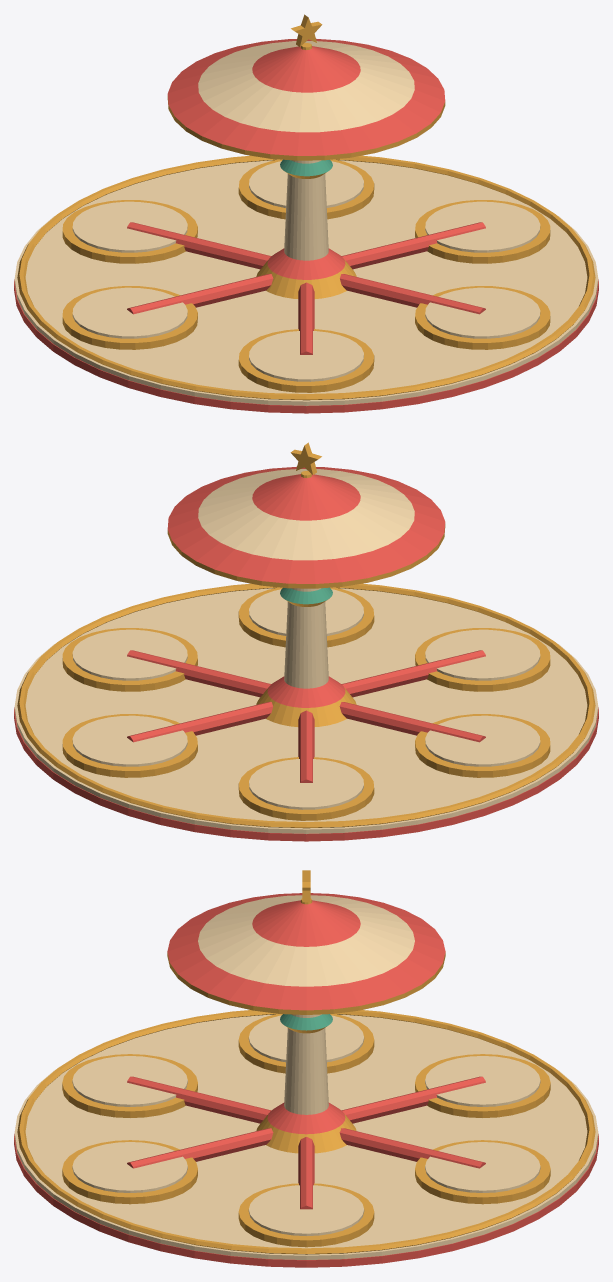
Rendered from ParkParkTeacupsHub.obj.
3 views of the same model, one above another, from view 1: azimuth 30°, elevation 25°; view 2: azimuth 150°, elevation 25°; view 3: azimuth 270°, elevation 25° (orthographic).
Visible parts, largest first — view 1: ParkParkTeacupsHub; view 2: ParkParkTeacupsHub; view 3: ParkParkTeacupsHub.
Part boxes in pixels (x1,y1,x2,y2): ParkParkTeacupsHub: (14, 14, 598, 413); ParkParkTeacupsHub: (14, 442, 598, 841); ParkParkTeacupsHub: (14, 870, 598, 1267).
Bounding box in the file's own units: 17.24 × 8.91 × 17.24.
